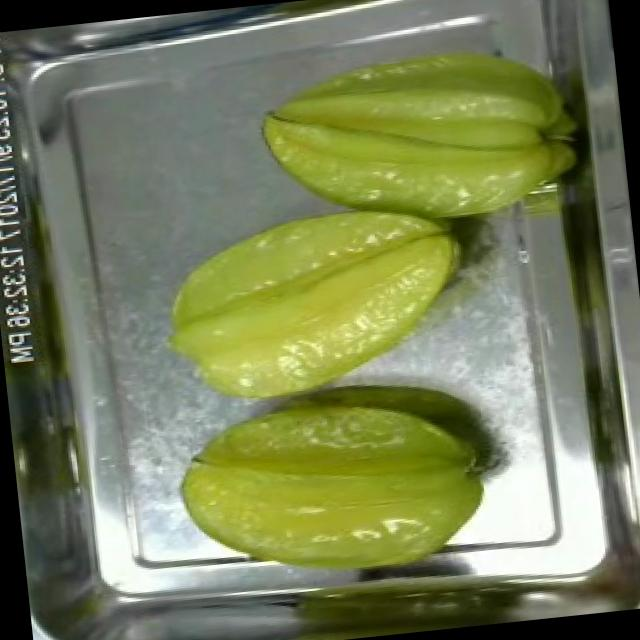fruit: (240, 16, 594, 258), (142, 180, 484, 419), (164, 374, 503, 602)
